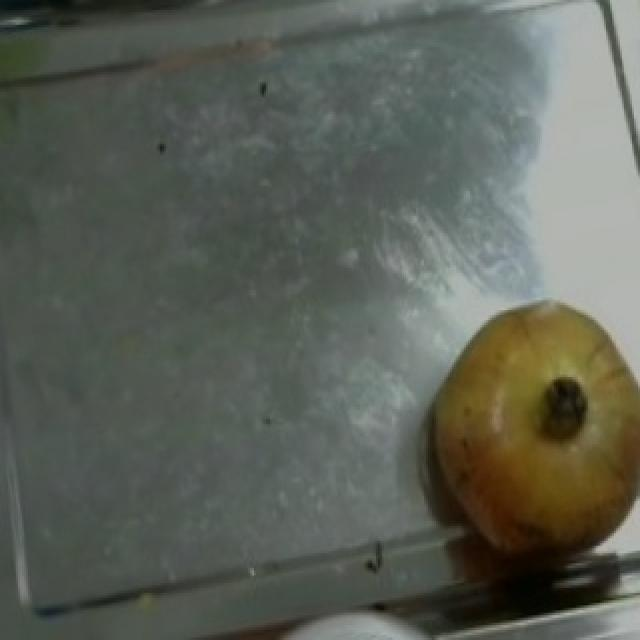fruit: (400, 273, 640, 565)
